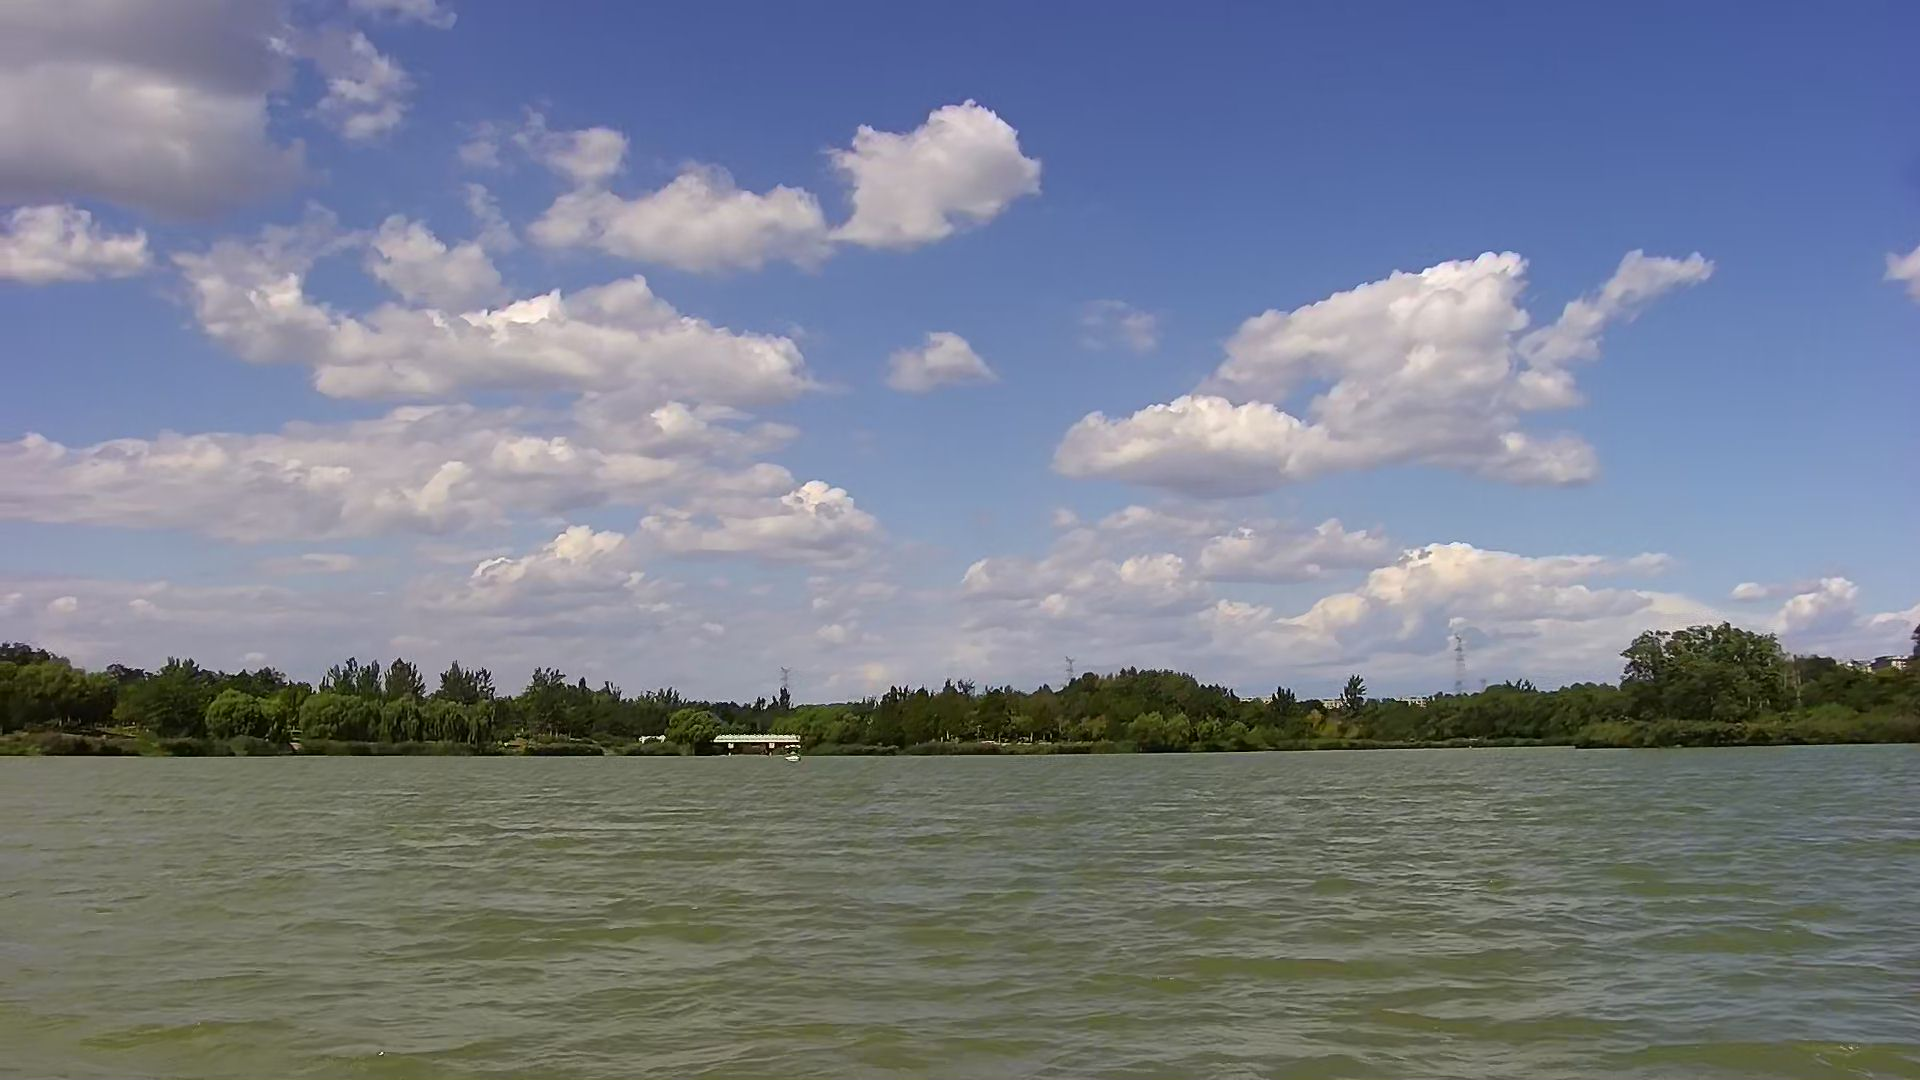bridge: (709, 731, 814, 756)
